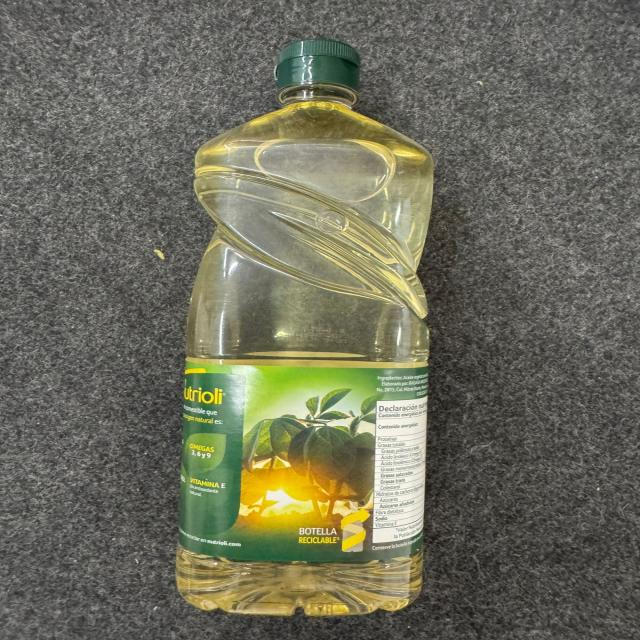Aceite Comestible Nutrioli 850ml: (193, 39, 429, 616)
